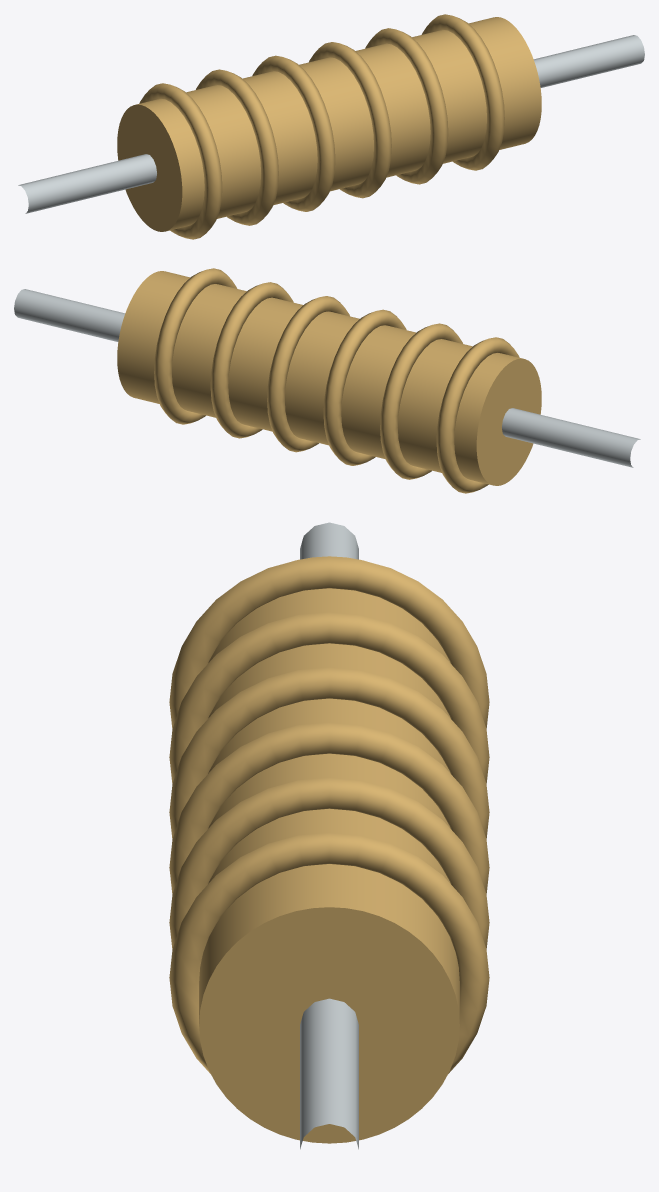
Rendered from tabletop-hobby-store-and-club-texture-impression-rolle-516a136b__31609.glb.
The picture shows the model from 3 angles, top to bottom: view 1: azimuth 30°, elevation 25°; view 2: azimuth 150°, elevation 25°; view 3: azimuth 270°, elevation 25°; orthographic projection. The views are drawn at different scales.
Visible parts, largest first — view 1: texture-impression-roller; view 2: texture-impression-roller; view 3: texture-impression-roller.
Boxes of the visible parts, box(x1,y1,x2,y2) form: texture-impression-roller: box(18, 14, 644, 239); texture-impression-roller: box(14, 268, 640, 493); texture-impression-roller: box(169, 522, 489, 1149).
Bounding box in the file's own units: 0.12 × 0.027 × 0.027.
